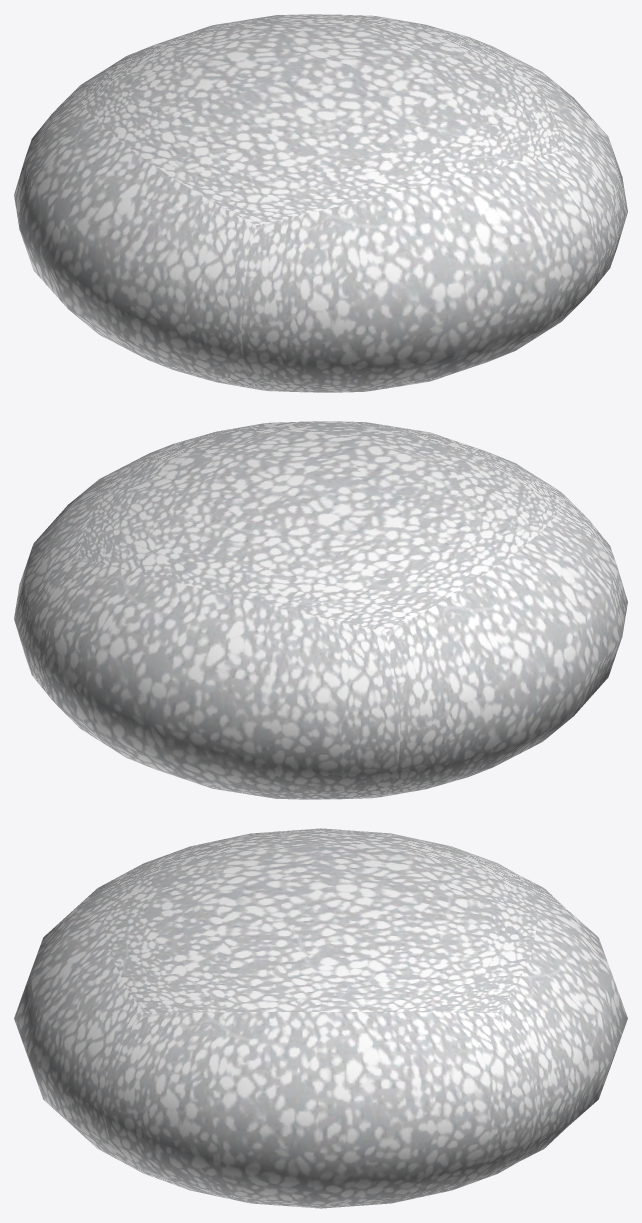
The model's file is acid.obj.
3 views of the same model, one above another, from view 1: azimuth 30°, elevation 25°; view 2: azimuth 150°, elevation 25°; view 3: azimuth 270°, elevation 25° (orthographic).
Parts seen in each view (by area): view 1: Acid1; view 2: Acid1; view 3: Acid1.
Boxes of the visible parts, x1=… form: Acid1: x1=14, y1=14, x2=627, y2=392; Acid1: x1=14, y1=421, x2=627, y2=799; Acid1: x1=14, y1=828, x2=627, y2=1208.
Size of the model in its own units: 2 by 1 by 2.
1 material, 1 textured.
